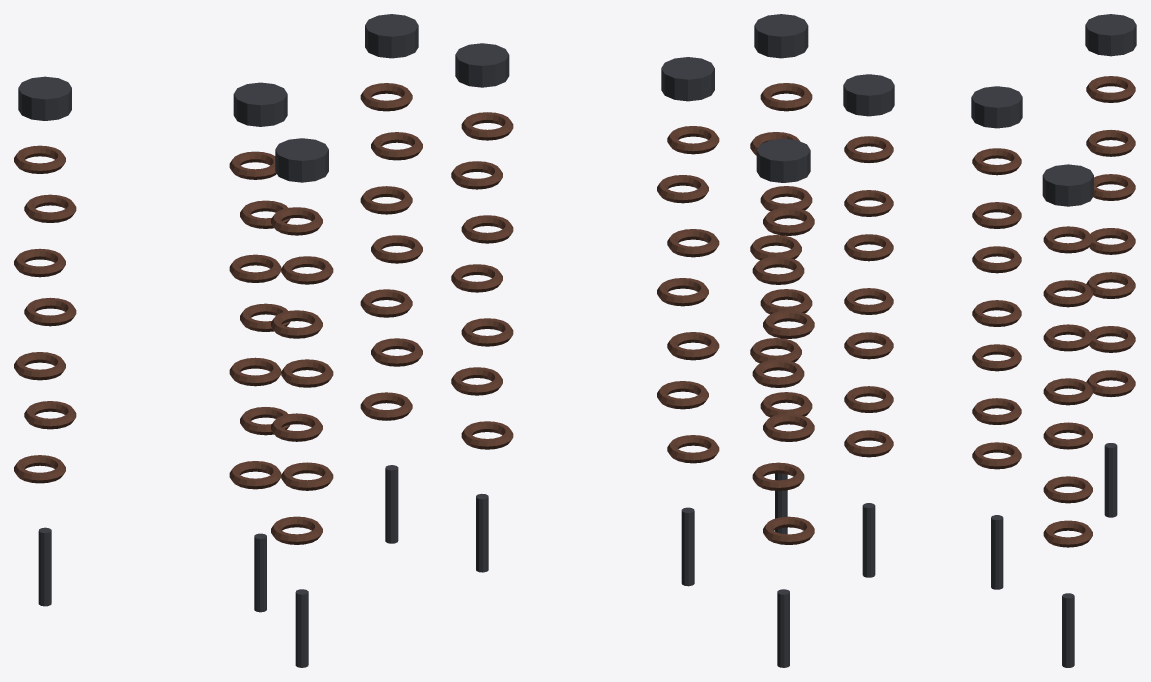
The model's file is ChainCluster_CeilingHooks.obj.
3 renders of one model, left to right at view 1: azimuth 30°, elevation 25°; view 2: azimuth 150°, elevation 25°; view 3: azimuth 270°, elevation 25°, orthographic. The views are drawn at different scales.
Parts seen in each view (by area): view 1: HookBase_1, HookBase_2, HookBase_3, HookBase_0, Link_2_5, Tip_0, Link_3_2, Tip_2, Tip_3, Link_2_2, Link_3_1, Link_3_3 (+24 smaller); view 2: HookBase_2, HookBase_3, HookBase_0, HookBase_1, Tip_1, Link_2_5, Link_2_2, Link_2_4, Link_2_0, Link_2_3, Link_2_6, Link_0_1 (+22 smaller); view 3: HookBase_2, HookBase_1, HookBase_3, HookBase_0, Tip_0, Tip_3, Link_0_0, Link_3_1, Link_3_3, Link_1_1, Link_1_2, Link_2_1 (+24 smaller).
Part boxes in pixels (box(x1,y1,x2,y2)): HookBase_1: box(233, 82, 287, 126); HookBase_2: box(365, 14, 418, 58); HookBase_3: box(275, 138, 328, 182); HookBase_0: box(18, 76, 71, 120); Link_2_5: box(371, 338, 422, 366); Tip_0: box(38, 527, 51, 606); Link_3_2: box(271, 310, 322, 338); Tip_2: box(385, 465, 398, 543); Tip_3: box(295, 589, 308, 667); Link_2_2: box(360, 186, 412, 214); Link_3_1: box(281, 256, 333, 284); Link_3_3: box(281, 359, 333, 387); HookBase_2: box(455, 43, 509, 87); HookBase_3: box(754, 14, 808, 58); HookBase_0: box(756, 138, 810, 182); HookBase_1: box(661, 57, 714, 101); Tip_1: box(681, 507, 694, 586); Link_2_5: box(451, 367, 502, 395); Link_2_2: box(461, 215, 513, 243); Link_2_4: box(461, 318, 513, 346); Link_2_0: box(461, 112, 513, 140); Link_2_3: box(451, 264, 502, 292); Link_2_6: box(461, 421, 513, 449); Link_0_1: box(752, 256, 804, 284); HookBase_2: box(1042, 164, 1093, 206); HookBase_1: box(971, 86, 1022, 128); HookBase_3: box(843, 74, 894, 116); HookBase_0: box(1085, 14, 1136, 56); Tip_0: box(1104, 443, 1117, 517); Tip_3: box(862, 503, 875, 577); Link_0_0: box(1086, 76, 1135, 102); Link_3_1: box(844, 190, 893, 216); Link_3_3: box(844, 288, 893, 314); Link_1_1: box(972, 202, 1021, 228); Link_1_2: box(972, 246, 1021, 273); Link_2_1: box(1043, 280, 1092, 307).
Bounding box in the file's own units: 1.47 × 1.9 × 1.03.
